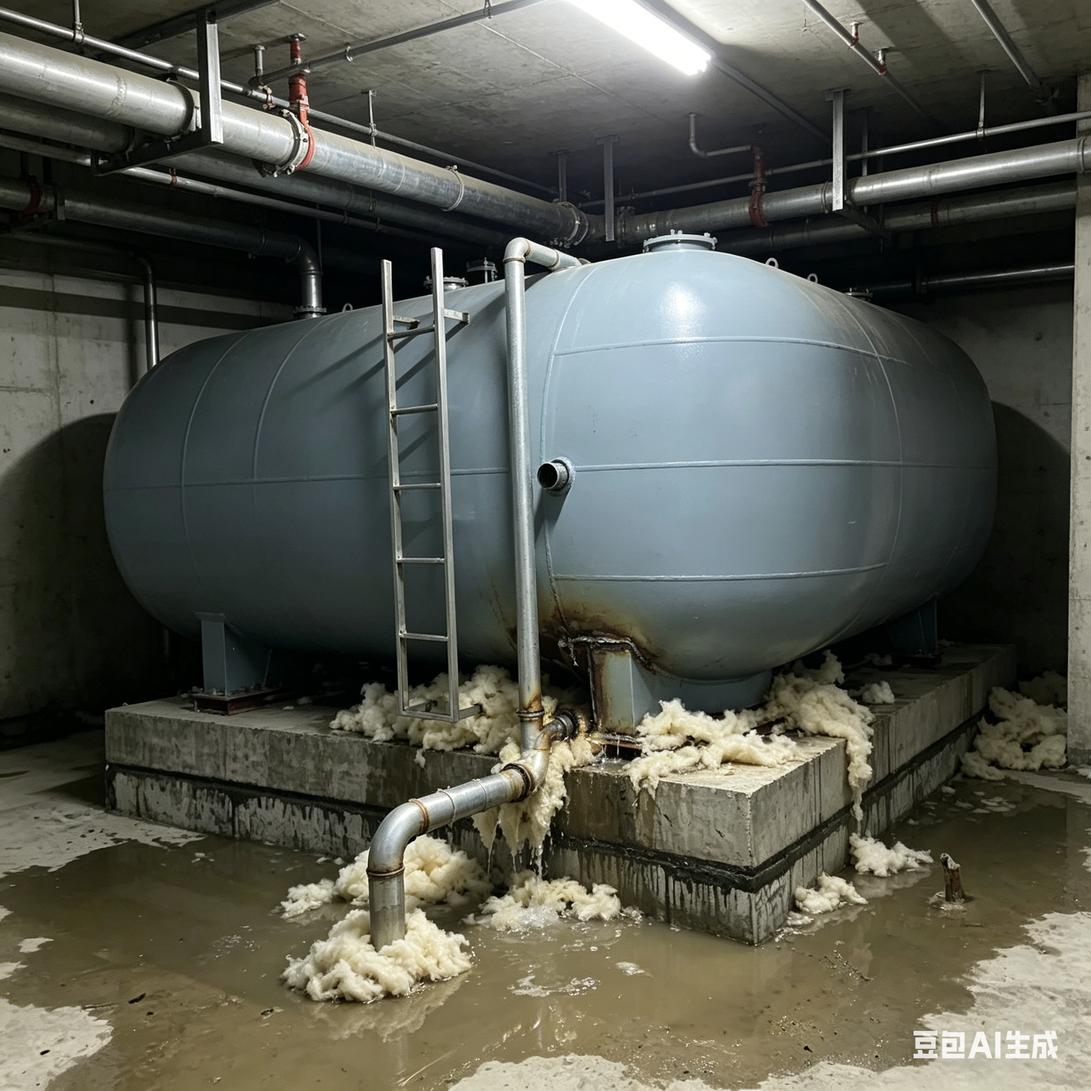Leakage: (435, 870, 818, 1083), (24, 868, 377, 1081), (896, 802, 1091, 923), (832, 933, 965, 1083), (385, 915, 433, 1083)
